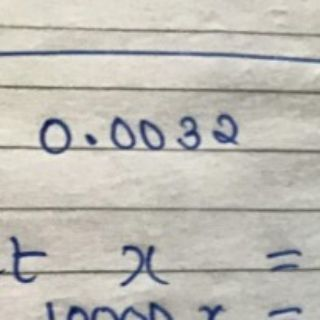.: (83, 129, 99, 148)
0: (36, 116, 76, 156), (138, 115, 167, 151), (107, 116, 136, 151)
2: (211, 110, 242, 146)
3: (174, 113, 202, 151)
